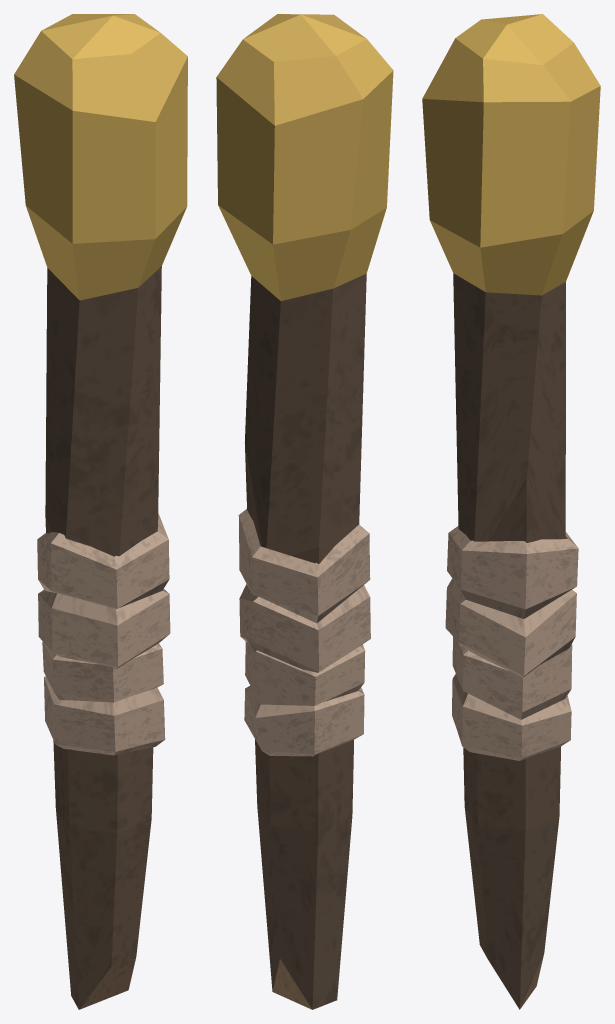
File: torch.glb
3 views of the same model, side by side, from view 1: azimuth 30°, elevation 25°; view 2: azimuth 150°, elevation 25°; view 3: azimuth 270°, elevation 25° (orthographic).
Visible parts, largest first — view 1: Torch; view 2: Torch; view 3: Torch.
Boxes of the visible parts, x1,y1,x2,y2 form: Torch: [14, 14, 187, 1009]; Torch: [216, 14, 393, 1009]; Torch: [422, 14, 600, 1009].
Bounding box in the file's own units: 0.1944 × 1.27 × 0.2105.
2 materials, 2 textured.
